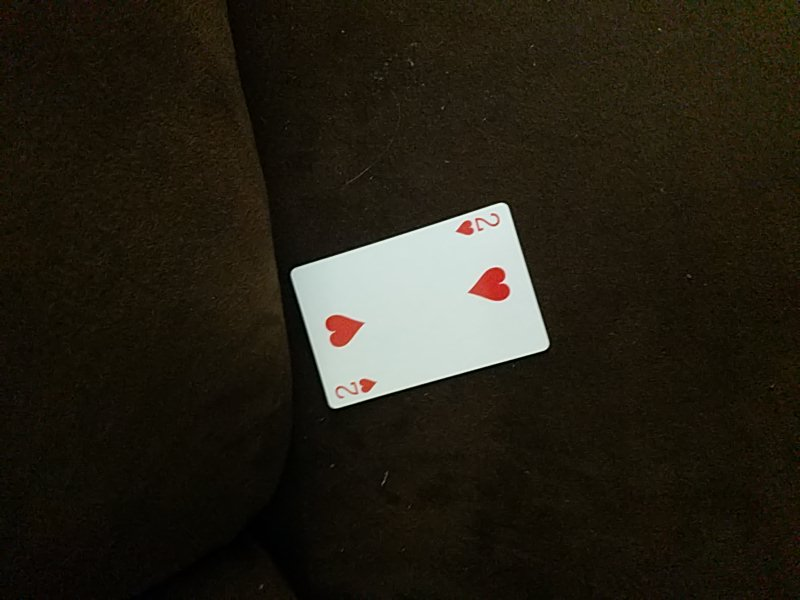Hearts: (287, 197, 555, 410)
